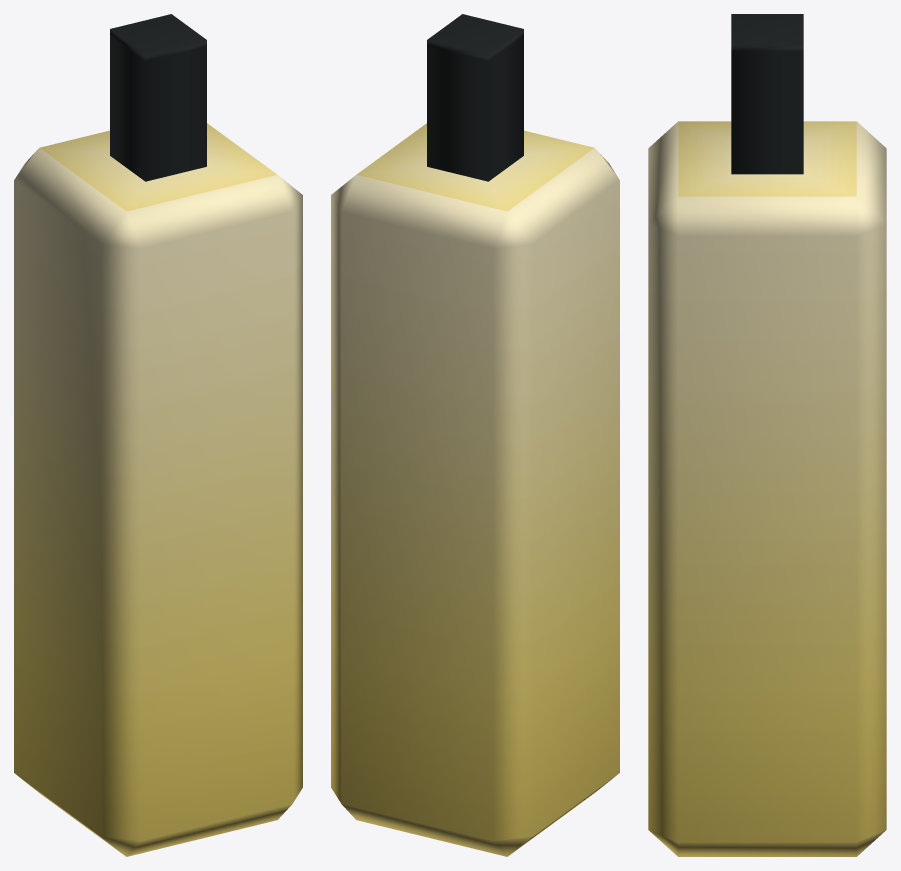
The model's file is candle_small_1.fbx.
3 views of the same model, side by side, from view 1: azimuth 30°, elevation 25°; view 2: azimuth 150°, elevation 25°; view 3: azimuth 270°, elevation 25° (orthographic). The views are drawn at different scales.
Visible parts, largest first — view 1: candle_small_1; view 2: candle_small_1; view 3: candle_small_1.
Part boxes in pixels (x1,y1,x2,y2): candle_small_1: (14, 14, 302, 856); candle_small_1: (331, 14, 619, 856); candle_small_1: (648, 14, 886, 856).
Bounding box in the file's own units: 18.51 × 67.71 × 18.51.
